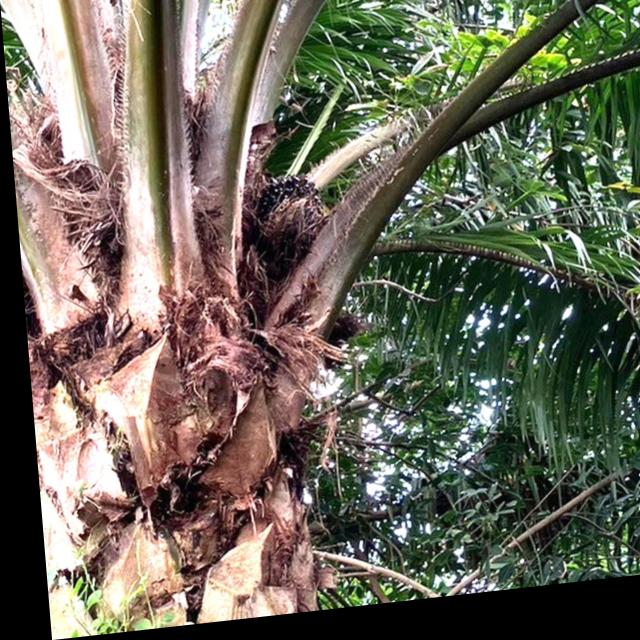unripe: (261, 179, 320, 255)
